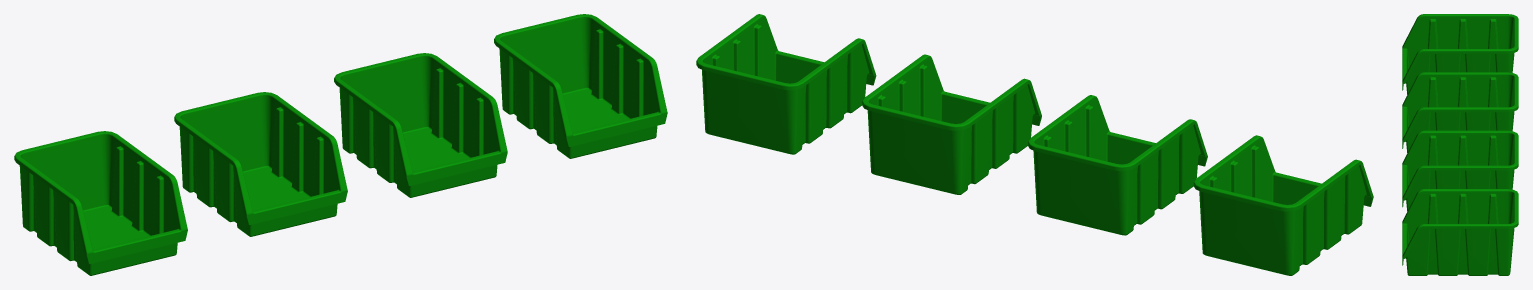
Rendered from stackable_boxes.fbx.
3 views of the same model, side by side, from view 1: azimuth 30°, elevation 25°; view 2: azimuth 150°, elevation 25°; view 3: azimuth 270°, elevation 25° (orthographic). The views are drawn at different scales.
Parts seen in each view (by area): view 1: stackable_box_blue, stackable_box_red, stackable_box_yellow, stackable_box_green; view 2: stackable_box_red, stackable_box_green, stackable_box_yellow, stackable_box_blue; view 3: stackable_box_yellow, stackable_box_red, stackable_box_blue, stackable_box_green.
Part boxes in pixels (x1,y1,x2,y2): stackable_box_blue: (334, 53, 507, 197); stackable_box_red: (14, 131, 187, 275); stackable_box_yellow: (494, 14, 667, 158); stackable_box_green: (174, 92, 347, 236); stackable_box_red: (1193, 135, 1373, 275); stackable_box_green: (1028, 95, 1207, 235); stackable_box_yellow: (696, 14, 876, 154); stackable_box_blue: (862, 54, 1041, 194); stackable_box_yellow: (1402, 189, 1518, 275); stackable_box_red: (1402, 14, 1518, 94); stackable_box_blue: (1402, 130, 1518, 211); stackable_box_green: (1402, 72, 1518, 152).
Bounding box in the file's own units: 109 × 12.81 × 25.35.
